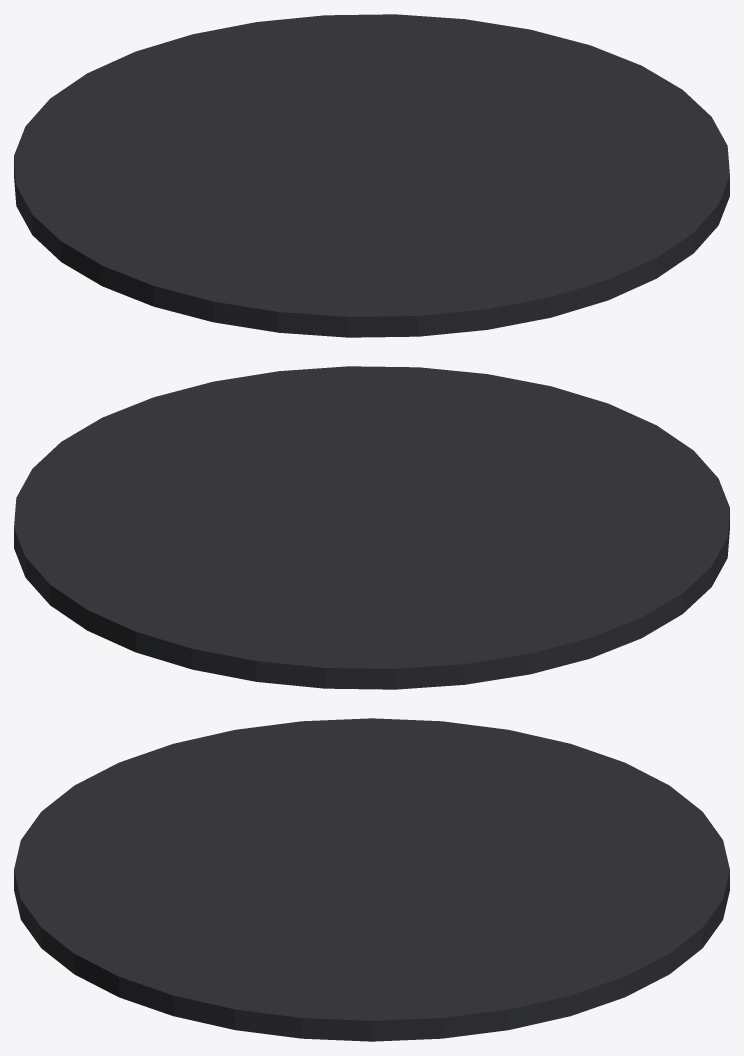
3 views of the same model, one above another, from view 1: azimuth 30°, elevation 25°; view 2: azimuth 150°, elevation 25°; view 3: azimuth 270°, elevation 25° (orthographic).
Visible parts, largest first — view 1: Cylindre; view 2: Cylindre; view 3: Cylindre.
Boxes of the visible parts, <box> form: Cylindre: <box>14,14,729,337</box>; Cylindre: <box>14,366,729,689</box>; Cylindre: <box>14,718,729,1041</box>.
Bounding box in the file's own units: 7.27 × 0.2321 × 7.27.
1 material, 1 textured.
